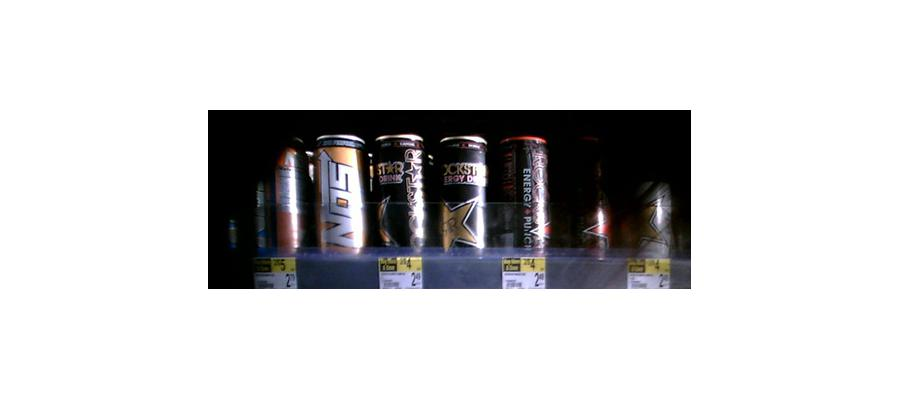bottle: (314, 129, 368, 259), (437, 134, 489, 256), (497, 136, 548, 257), (373, 133, 425, 251), (567, 134, 611, 261), (275, 129, 309, 259), (635, 173, 673, 273)
